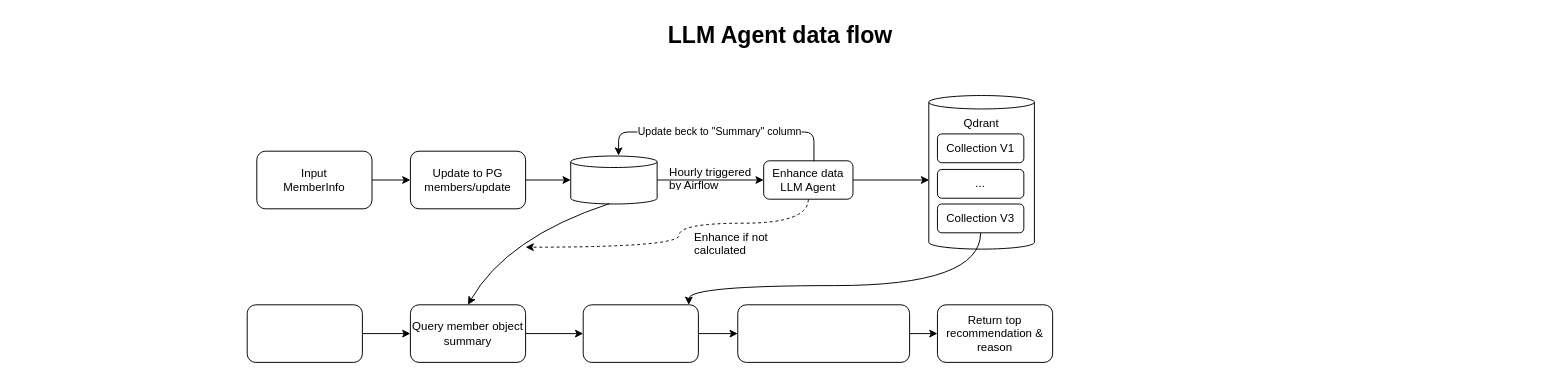
The diagram is 1559 pixels wide and 379 high, and some of its shapes have lost their labels. Here are the shapes that lost their labels. From the top down, the centre of each, then its label:
[613,179]: Postgres
[304,333]: Query Member Info
[640,333]: Base on version query top 5 similar items
[823,333]: Rerank Join query & 5 candidate's member info as prompt & let it recommend
